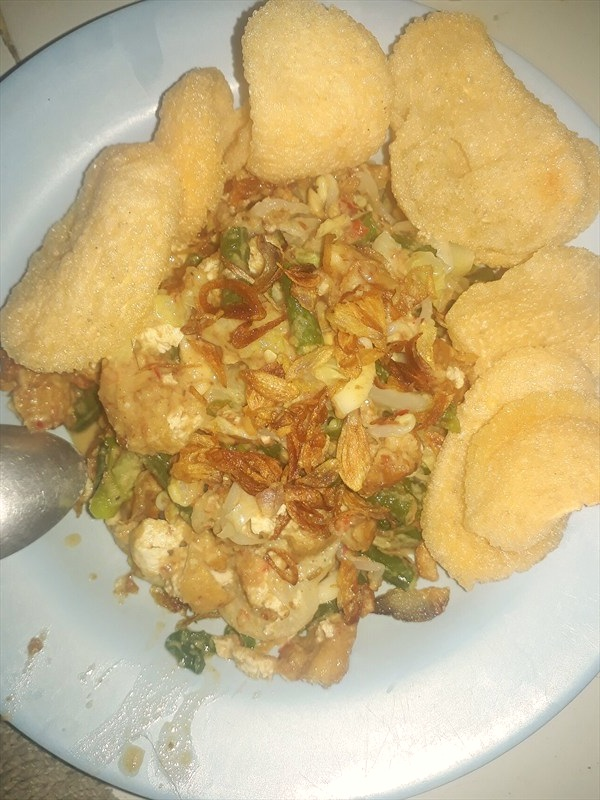Gado-Gado: (95, 159, 479, 615)
